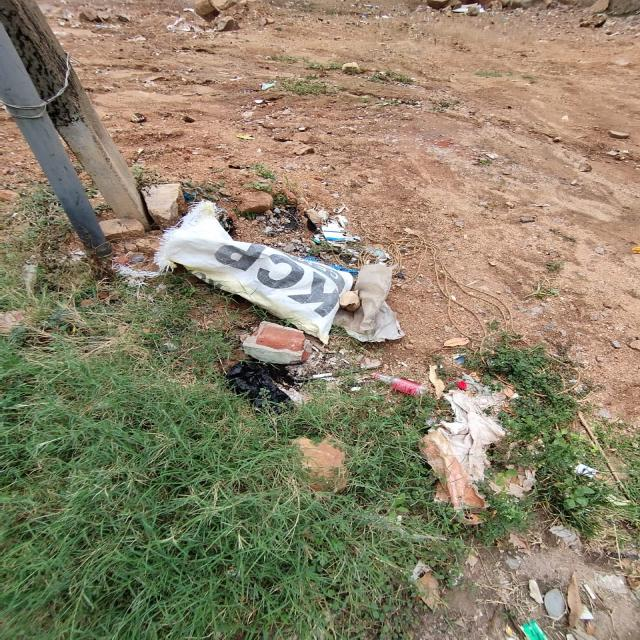paper: (165, 219, 359, 329)
plastic: (370, 364, 428, 402), (456, 379, 472, 391)
